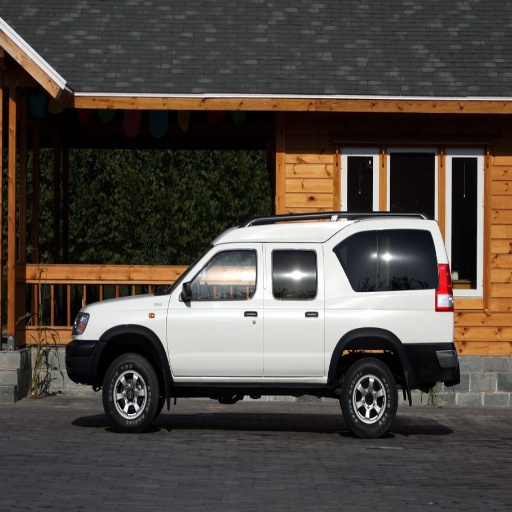back_glass: (378, 231, 425, 278)
back_left_door: (264, 244, 322, 372)
trunk: (298, 295, 452, 392)
